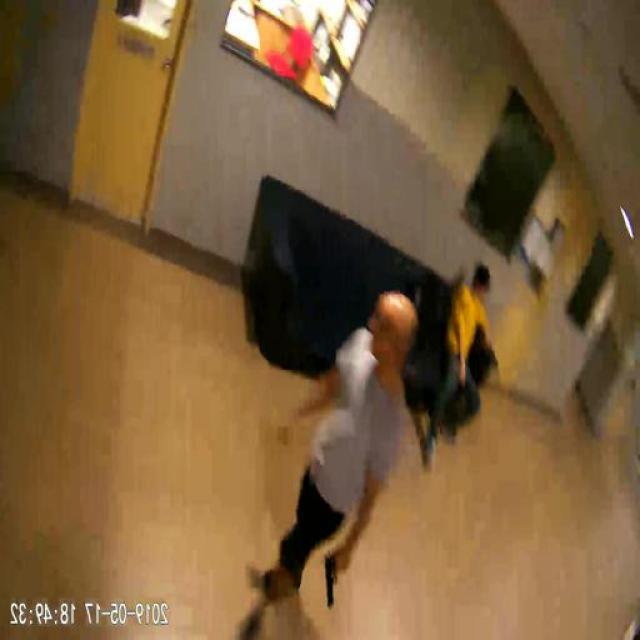Gun: (326, 548, 352, 608)
